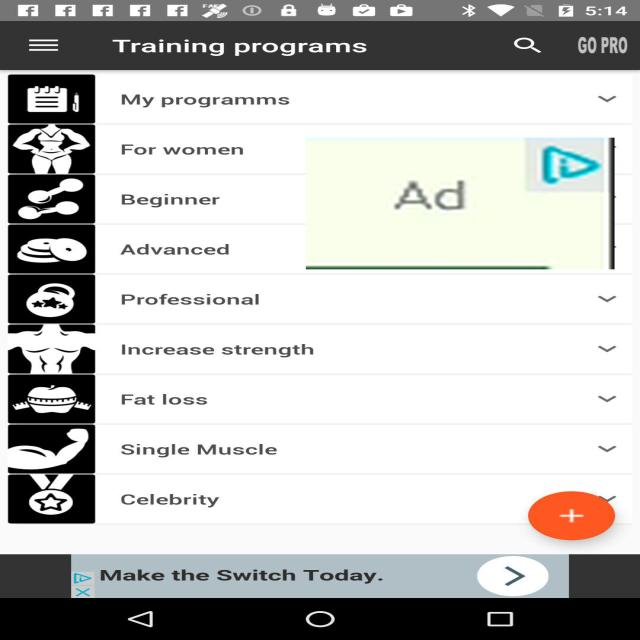sneaking: (306, 138, 614, 269)
